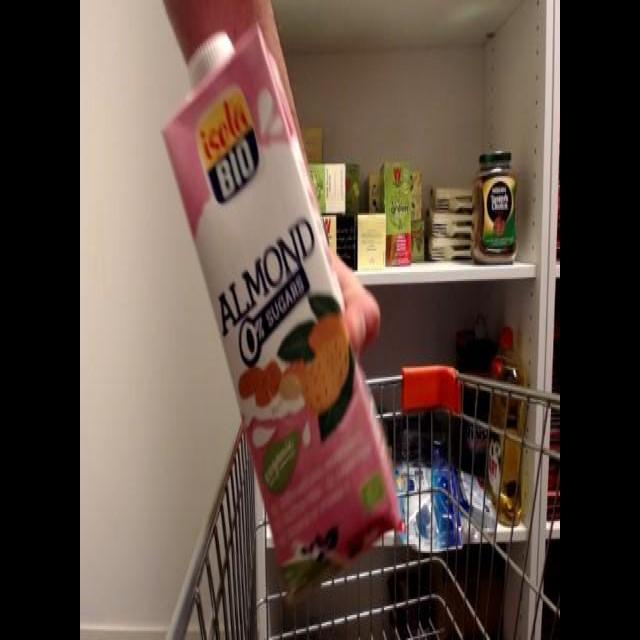Almond Milk: (158, 18, 402, 608)
